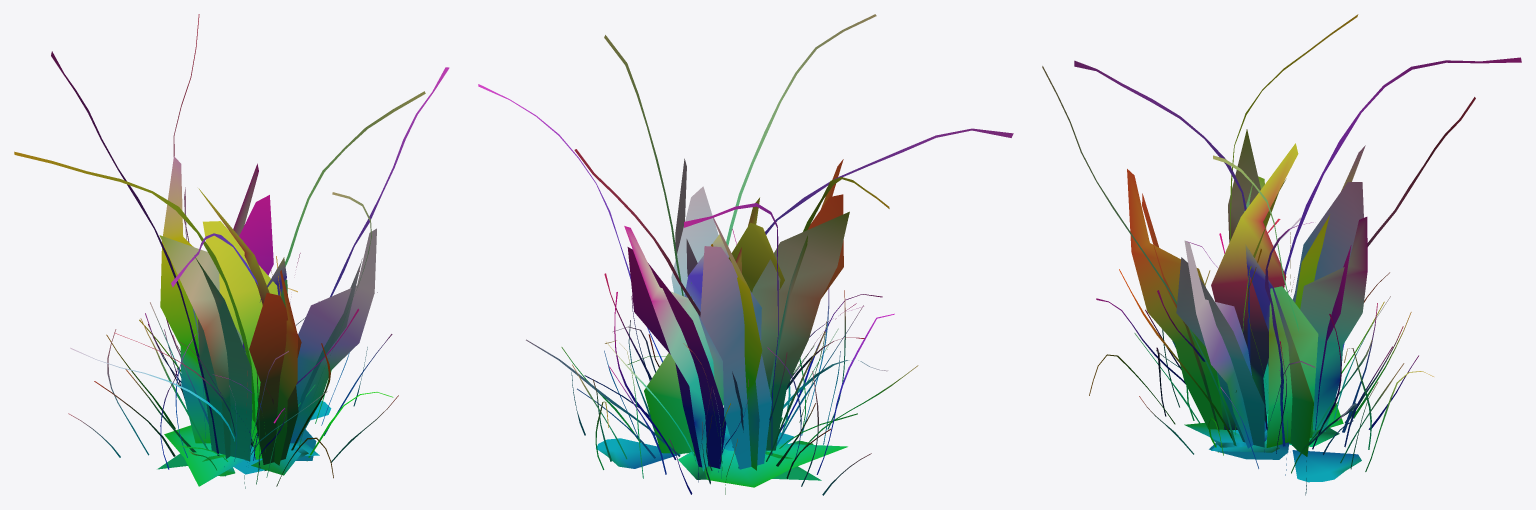
The model's file is uddmcgbia_VarK_LOD0.fbx.
3 views of the same model, side by side, from view 1: azimuth 30°, elevation 25°; view 2: azimuth 150°, elevation 25°; view 3: azimuth 270°, elevation 25° (orthographic). The views are drawn at different scales.
Parts seen in each view (by area): view 1: _adc6_VarK_LOD0; view 2: _adc6_VarK_LOD0; view 3: _adc6_VarK_LOD0.
Boxes of the visible parts, x1=… form: _adc6_VarK_LOD0: x1=14, y1=14, x2=449, y2=488; _adc6_VarK_LOD0: x1=478, y1=14, x2=1013, y2=495; _adc6_VarK_LOD0: x1=1042, y1=14, x2=1521, y2=495.
Size of the model in its own units: 22.82 by 18.67 by 22.22.
